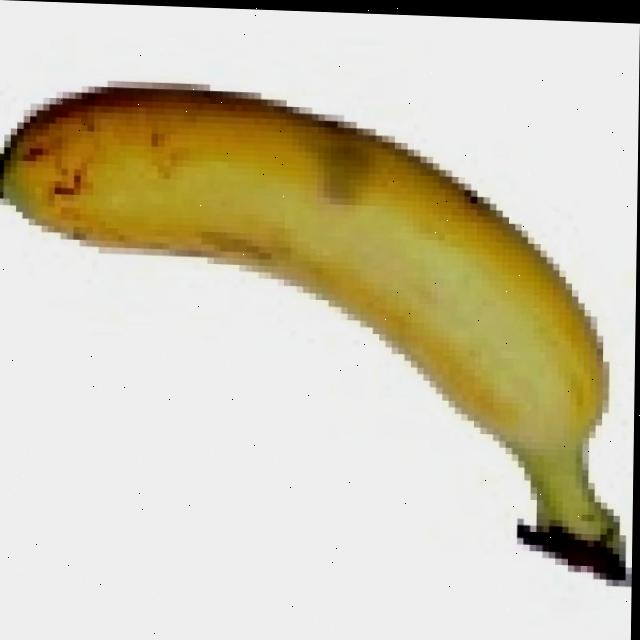banana: (0, 70, 626, 581)
